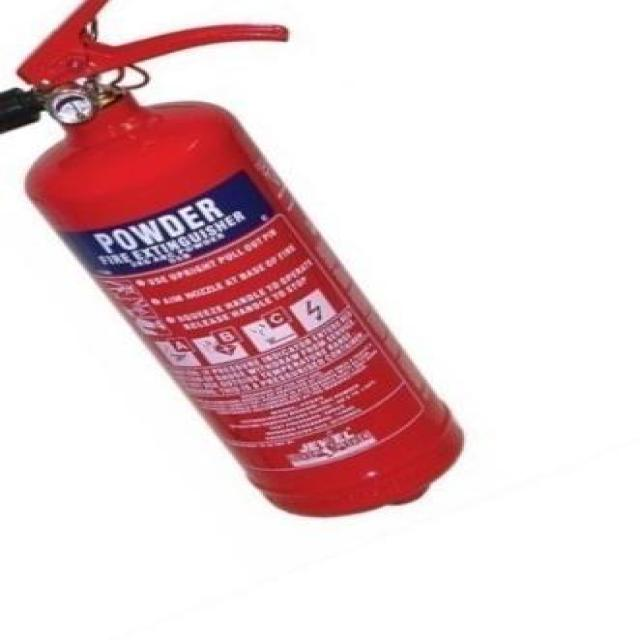fire_extinguisher: (0, 0, 480, 523)
